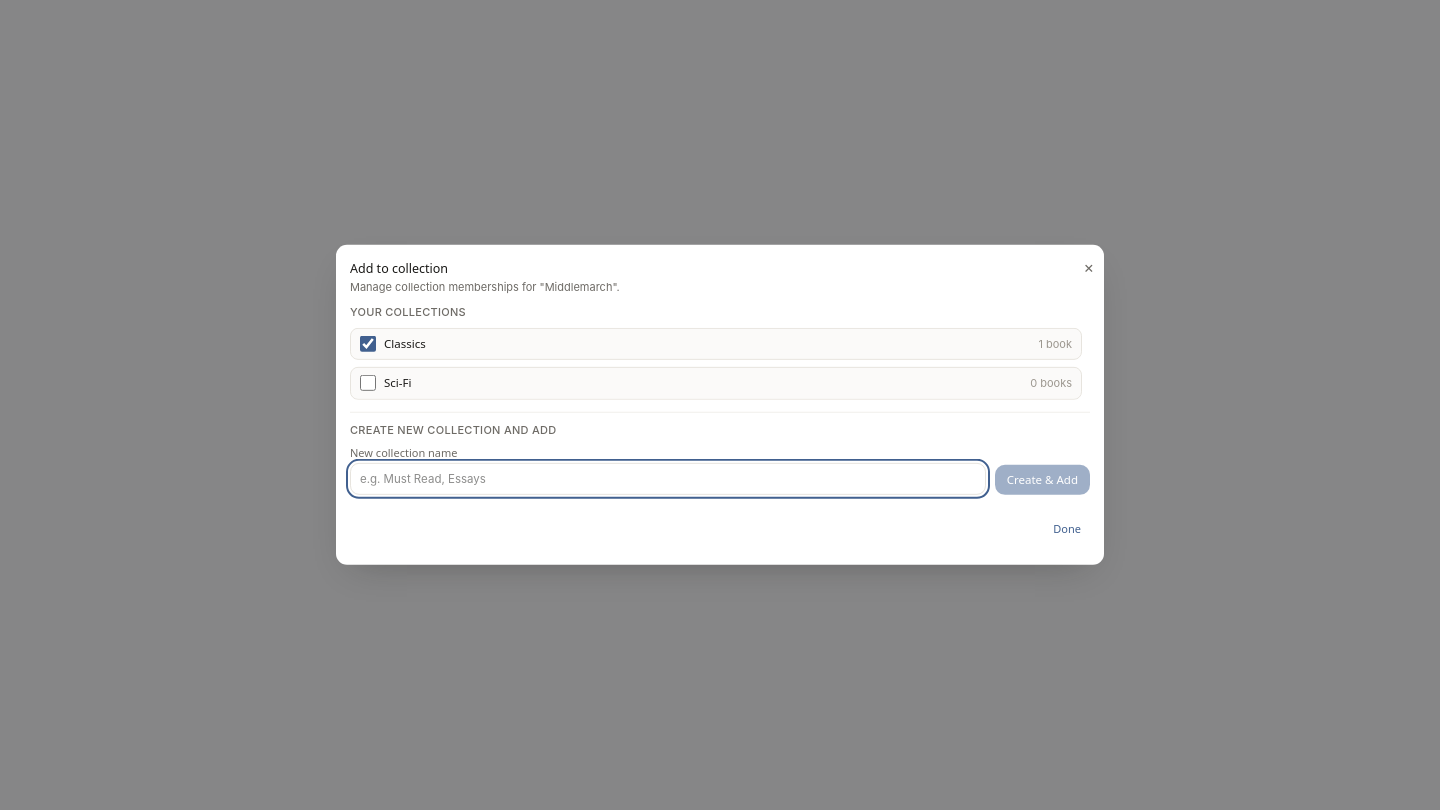
it: AddToCollectionModal › case (a): handles create failure outright without attempting add
This screenshot has width=1440, height=810.
Expected: the text "Classics" is shown, [384,336,426,352]
In the field labelled "New collection name": (668, 479) [350,463,986,495], type "Bad Name"
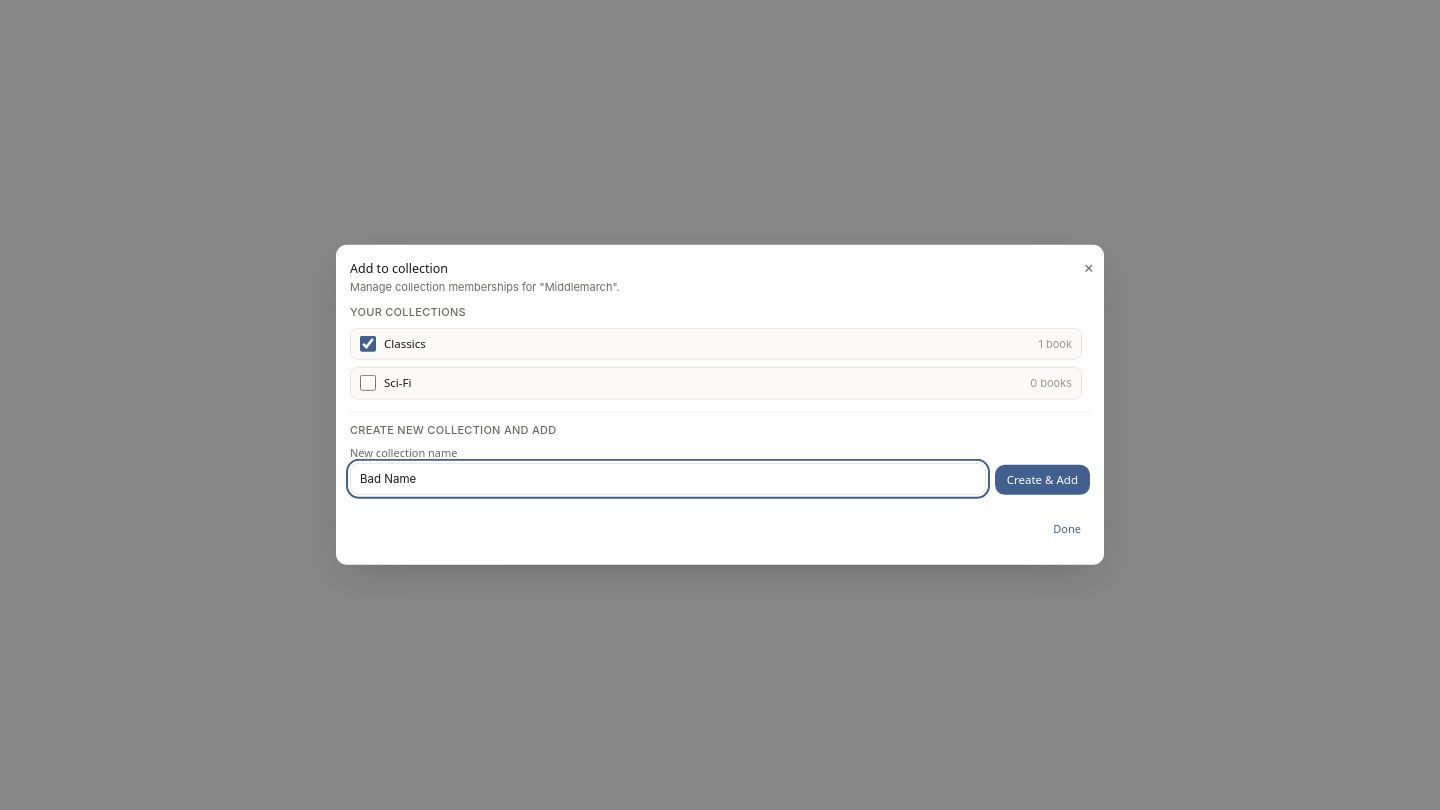
Click the button "Create & Add": (1042, 480) [995,465,1090,495]
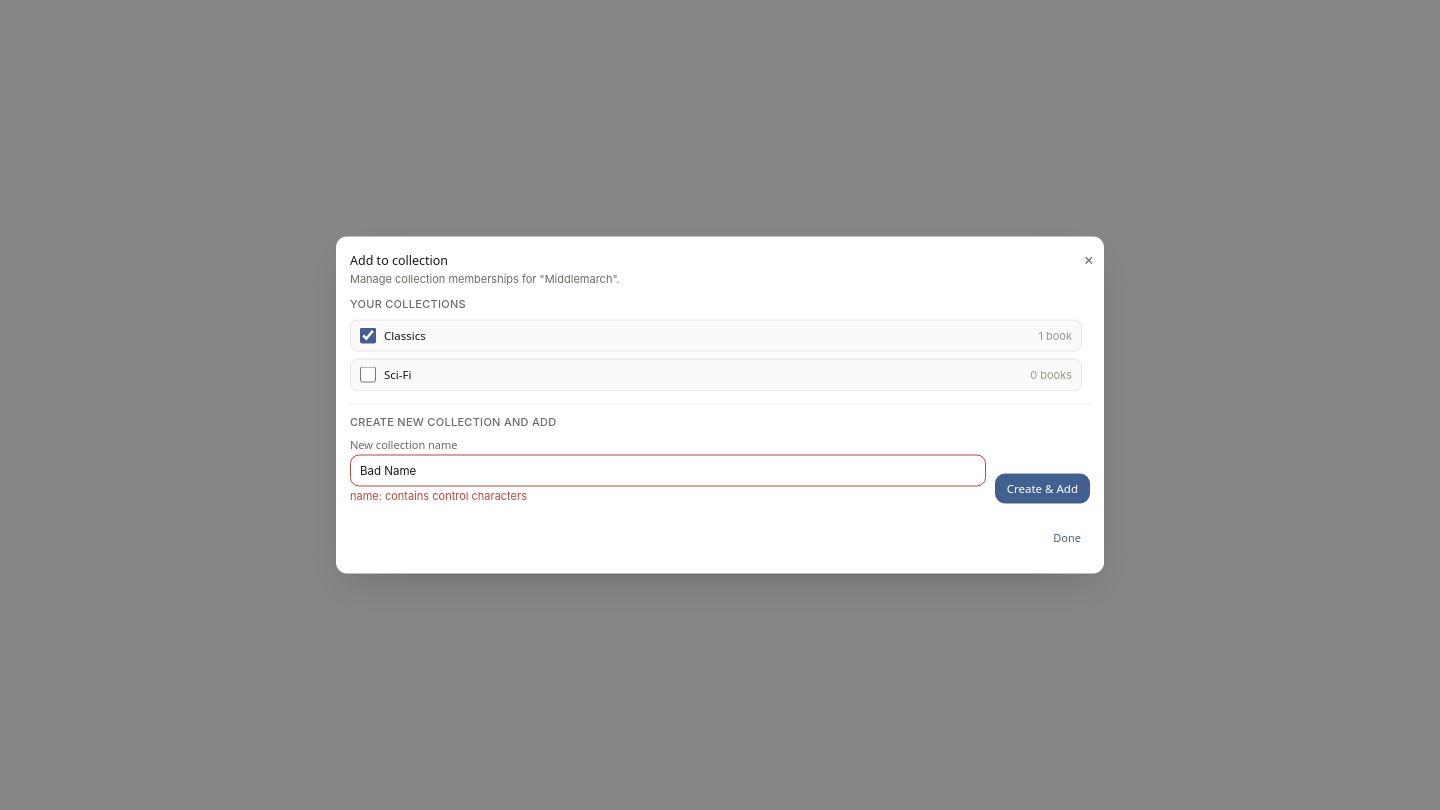
Expected: the text "name: contains control characters" is shown, [350,489,527,503]
